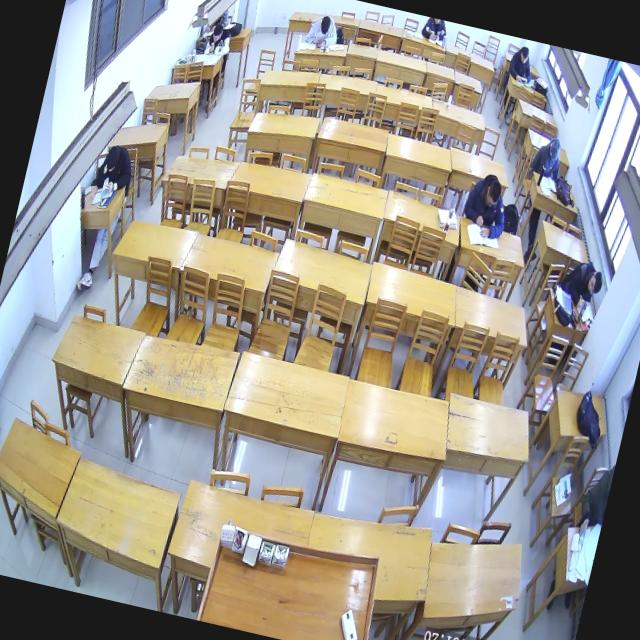bow: (303, 10, 342, 52)
down: (482, 177, 504, 211), (102, 142, 123, 176), (584, 268, 606, 300), (546, 136, 564, 164), (317, 14, 333, 36), (516, 44, 532, 66), (210, 22, 224, 44)
sit: (456, 168, 516, 244), (90, 138, 140, 200), (554, 255, 608, 312), (526, 132, 566, 182), (505, 43, 538, 87), (201, 19, 235, 60)
